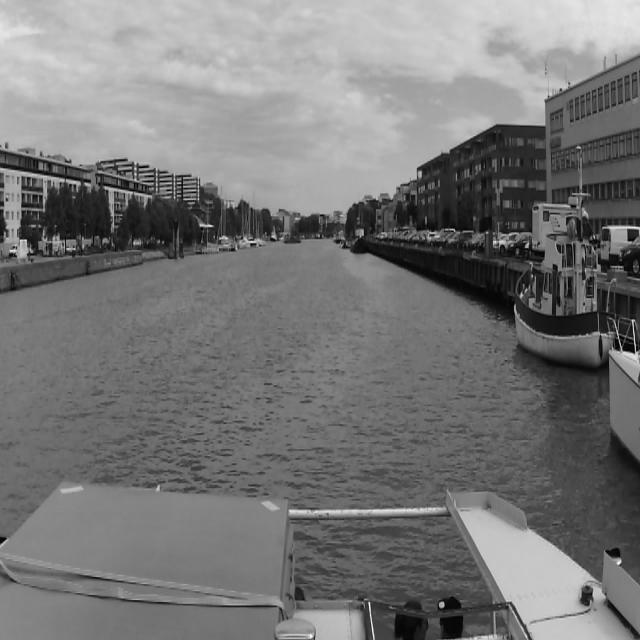ship: (514, 144, 598, 368), (194, 195, 218, 254), (220, 183, 234, 252), (238, 195, 256, 247), (351, 217, 368, 252), (284, 236, 302, 244), (271, 225, 277, 242)
